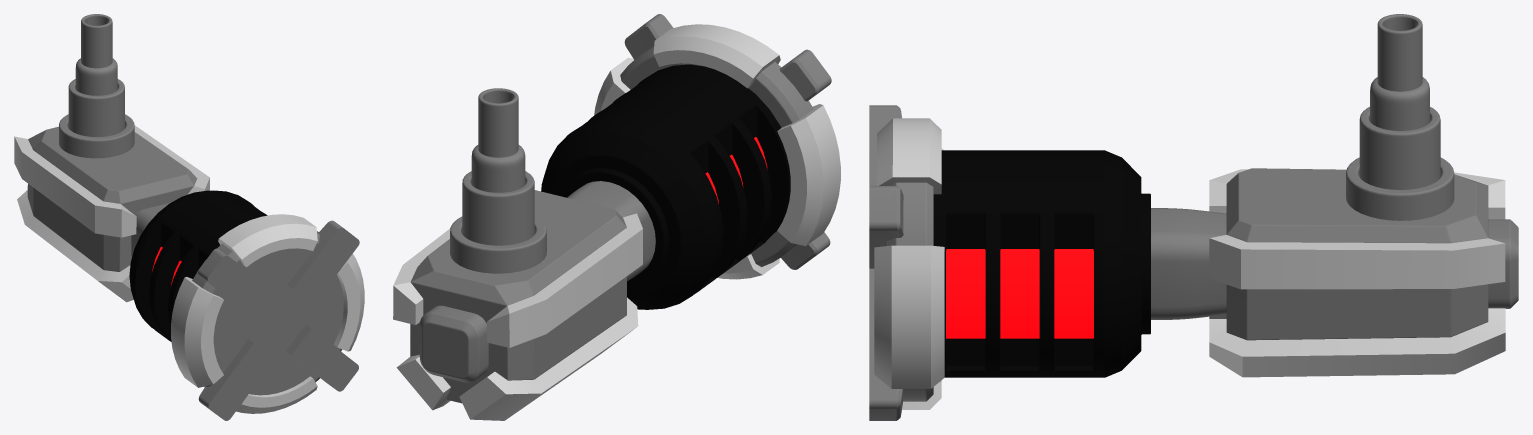
File: LaserShooterFixed1.fbx
The picture shows the model from 3 angles, left to right: view 1: azimuth 30°, elevation 25°; view 2: azimuth 150°, elevation 25°; view 3: azimuth 270°, elevation 25°; orthographic projection. The views are drawn at different scales.
Parts seen in each view (by area): view 1: Cube.004, Cylinder.002, Cylinder.005, Cylinder.001, Cube.010, Cylinder.004, Cube.007, Cube.006, Cylinder.006_Plate.001, Cube.005, Cube.008, Cube.009 (+4 smaller); view 2: Cylinder.005, Cube.004, Cube.010, Cylinder.001, Cube.003, Cube.009, Cylinder.004, Cylinder.006_Plate.001, Cylinder.002, Cylinder.006_Plate.002, Cylinder.006_Plate, Cylinder.006 (+3 smaller); view 3: Cylinder.005, Cube.004, Cube.010, Cube.009, Cylinder.007, Cylinder.001, Cube.003, Cylinder.006_Plate.001, Cylinder.004, Cylinder.006_Plate.002, Cylinder.006_Plate, Cylinder.002 (+4 smaller).
Boxes of the visible parts, x1,y1,x2,y2 form: Cube.004: (27, 126, 197, 271); Cylinder.002: (192, 231, 343, 395); Cylinder.005: (129, 190, 267, 341); Cylinder.001: (171, 253, 364, 387); Cube.010: (14, 125, 209, 237); Cylinder.004: (218, 214, 317, 413); Cube.007: (287, 220, 359, 305); Cube.006: (198, 339, 274, 420); Cylinder.006_Plate.001: (68, 79, 124, 136); Cube.005: (197, 248, 275, 317); Cube.008: (286, 325, 358, 391); Cube.009: (17, 190, 133, 302); Cylinder.005: (541, 64, 790, 309); Cube.004: (410, 190, 626, 403); Cube.010: (393, 213, 642, 347); Cylinder.001: (594, 57, 840, 246); Cube.003: (419, 181, 655, 382); Cube.009: (396, 297, 638, 420); Cylinder.004: (653, 24, 780, 279); Cylinder.006_Plate.001: (462, 171, 534, 245); Cylinder.002: (620, 46, 813, 266); Cylinder.006_Plate.002: (450, 216, 546, 273); Cylinder.006_Plate: (478, 88, 518, 157); Cylinder.006: (471, 145, 525, 192); Cylinder.005: (933, 150, 1150, 377); Cube.004: (1226, 168, 1488, 340); Cube.010: (1209, 169, 1505, 289); Cube.009: (1209, 308, 1505, 377); Cylinder.007: (946, 249, 1093, 338); Cylinder.001: (874, 148, 944, 388); Cube.003: (1151, 208, 1518, 319); Cylinder.006_Plate.001: (1359, 107, 1440, 189); Cylinder.004: (877, 118, 941, 409); Cylinder.006_Plate.002: (1346, 157, 1454, 220); Cylinder.006_Plate: (1377, 14, 1422, 91); Cylinder.002: (885, 182, 933, 401).
Size of the model in its own units: 1249 by 1732 by 2730.
